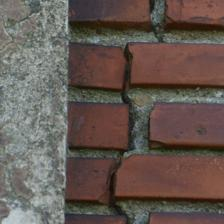Crack: (116, 44, 143, 154), (106, 157, 136, 224)
